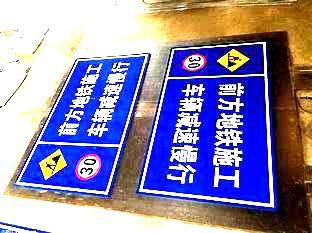sign: (163, 48, 268, 207), (39, 57, 131, 187)
